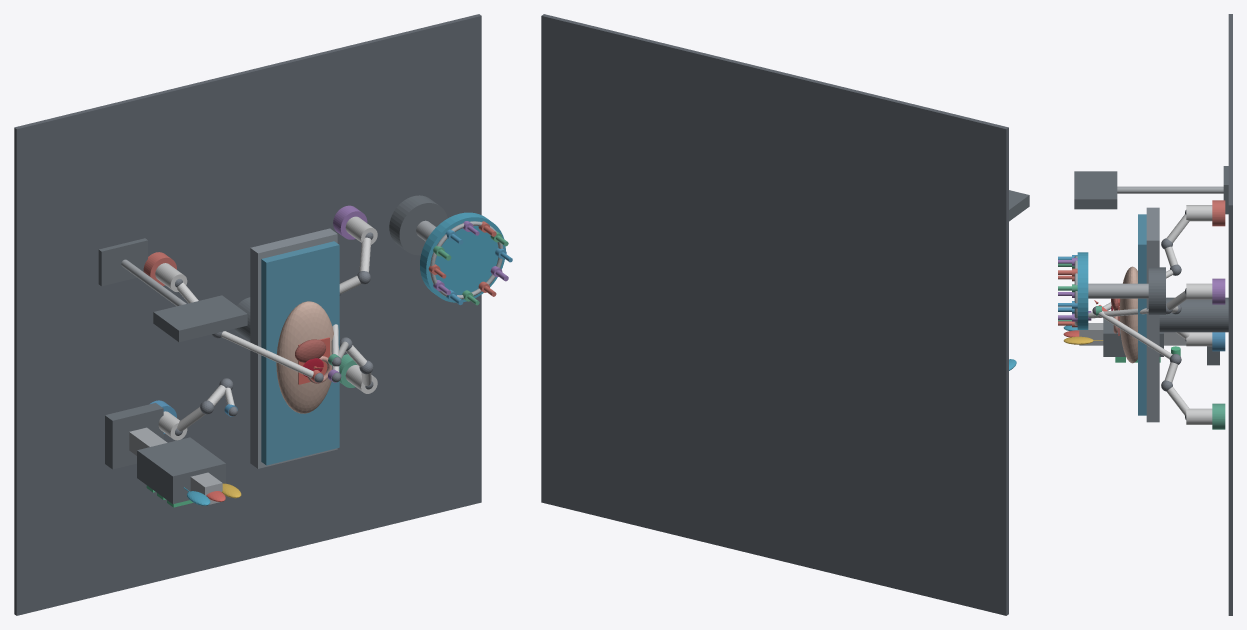
Rendered from dranmar_autonomous_rescue_or_hemorrhage_rescue.glb.
3 views of the same model, side by side, from view 1: azimuth 30°, elevation 25°; view 2: azimuth 150°, elevation 25°; view 3: azimuth 270°, elevation 25° (orthographic). The views are drawn at different scales.
Visible parts, largest first — view 1: floor, mattress, carousel_rotor, table_base, pump_rack, patient_torso, monitor_body, resus_base, carousel_base, monitor_base, resus_column, rescue_link_2; view 2: floor; view 3: floor, table_base, table_column, monitor_body, mattress, patient_torso, carousel_column, carousel_rotor, carousel_base, monitor_pole, pump_rack, resus_column (+12 smaller).
Boxes of the visible parts, x1,y1,x2,y2 form: floor: [14, 14, 481, 615]; mattress: [261, 241, 339, 465]; carousel_rotor: [420, 212, 505, 302]; table_base: [250, 228, 337, 468]; pump_rack: [137, 437, 225, 503]; patient_torso: [276, 301, 333, 413]; monitor_body: [153, 295, 247, 342]; resus_base: [105, 403, 163, 469]; carousel_base: [389, 195, 447, 255]; monitor_base: [98, 238, 147, 286]; resus_column: [129, 427, 222, 504]; rescue_link_2: [221, 331, 313, 377]; floor: [541, 14, 1008, 615]; floor: [1228, 14, 1232, 615]; table_base: [1146, 207, 1159, 422]; table_column: [1159, 297, 1228, 332]; monitor_body: [1074, 171, 1117, 209]; mattress: [1138, 214, 1146, 415]; patient_torso: [1119, 266, 1137, 363]; carousel_column: [1088, 283, 1148, 298]; carousel_rotor: [1077, 252, 1088, 329]; carousel_base: [1148, 267, 1165, 314]; monitor_pole: [1117, 186, 1223, 193]; pump_rack: [1103, 316, 1163, 356]; resus_column: [1079, 323, 1186, 345].
Size of the model in its own units: 4.2 by 4.2 by 1.62.
